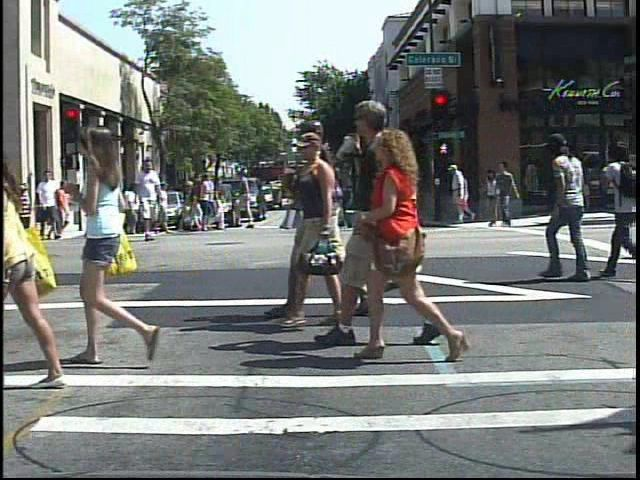person: (319, 88, 441, 347), (357, 117, 466, 362), (65, 114, 162, 376), (2, 132, 73, 392), (542, 130, 591, 279), (599, 137, 638, 286), (132, 160, 166, 243), (90, 162, 120, 241), (36, 167, 65, 244), (450, 163, 473, 226), (13, 181, 34, 242), (93, 181, 113, 220)
